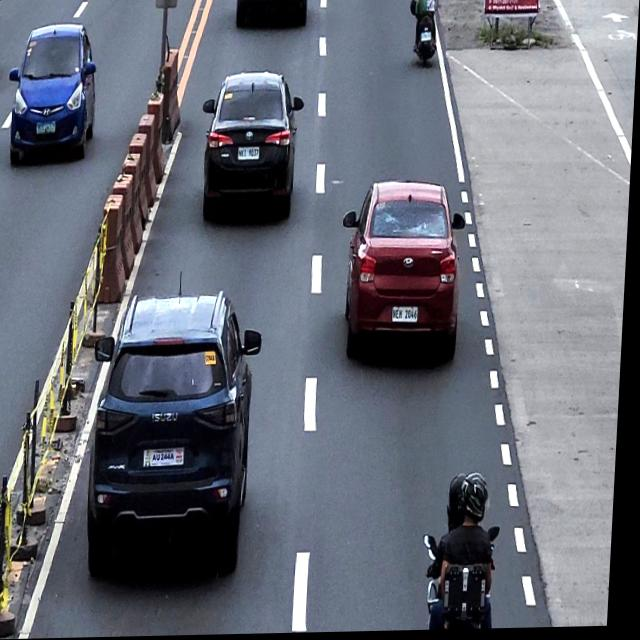Car: (88, 277, 269, 580), (340, 180, 469, 366), (199, 71, 307, 223), (6, 23, 100, 164)
License-Plate: (147, 446, 191, 469), (394, 305, 423, 326), (239, 146, 262, 162), (37, 120, 58, 135), (420, 32, 433, 45)
Motorcycle: (408, 0, 441, 69)
